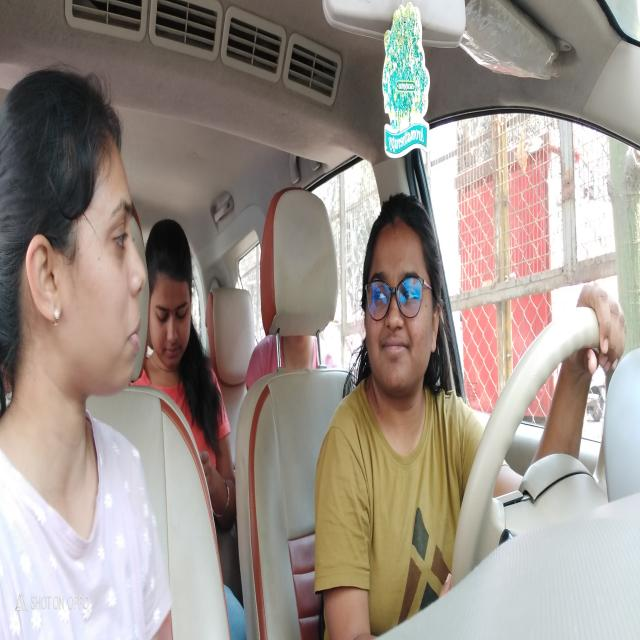LeftRight: (357, 183, 448, 423)
person: (0, 63, 146, 396), (145, 211, 199, 375)
